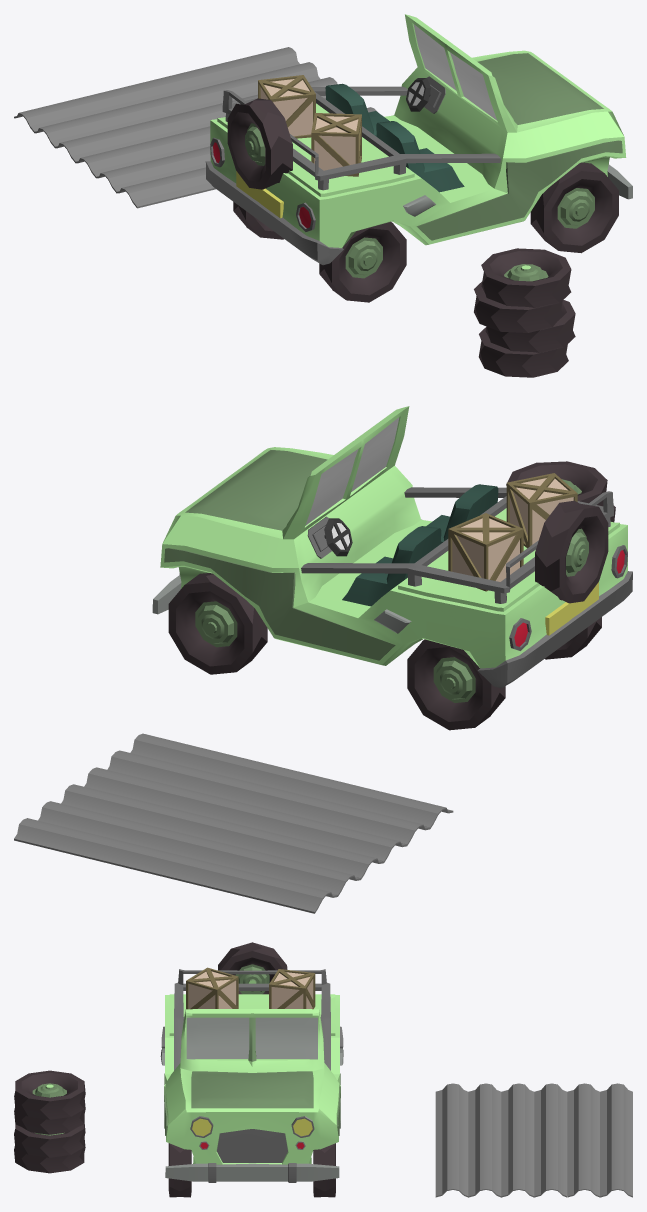
Rendered from Models.fbx.
3 renders of one model, top to bottom at view 1: azimuth 30°, elevation 25°; view 2: azimuth 150°, elevation 25°; view 3: azimuth 270°, elevation 25°, orthographic. The views are drawn at different scales.
Parts seen in each view (by area): view 1: Jeep01, IjzerenPlaat, BandenHoop; view 2: Jeep01, IjzerenPlaat, BandenHoop; view 3: Jeep01, IjzerenPlaat, BandenHoop.
Part boxes in pixels (x1=…): Jeep01: x1=205, y1=14, x2=632, y2=302; IjzerenPlaat: x1=14, y1=47, x2=377, y2=208; BandenHoop: x1=474, y1=248, x2=575, y2=377; Jeep01: x1=152, y1=406, x2=632, y2=730; IjzerenPlaat: x1=14, y1=733, x2=453, y2=913; BandenHoop: x1=506, y1=461, x2=615, y2=522; Jeep01: x1=160, y1=942, x2=343, y2=1197; IjzerenPlaat: x1=435, y1=1083, x2=632, y2=1197; BandenHoop: x1=14, y1=1070, x2=85, y2=1173.
Bounding box in the file's own units: 365 × 221 × 732.
